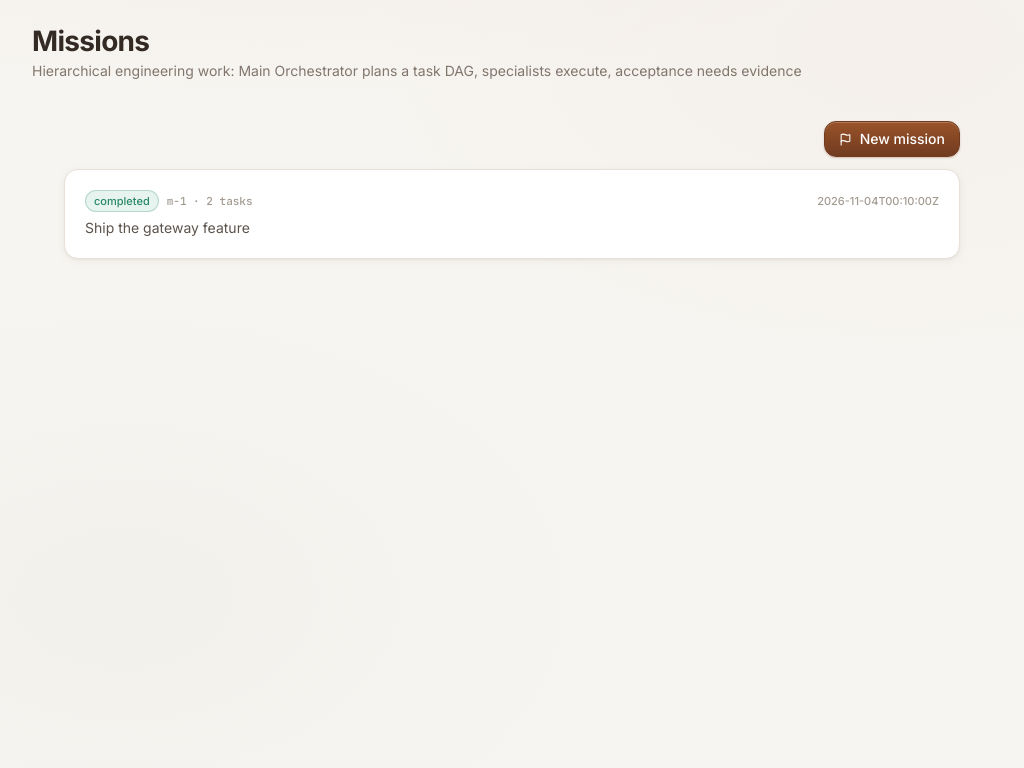
Test: Missions learning post-mortem › shows the pending note before the learning tick runs
The width and height of the screenshot is (1024, 768).
Click the text "Ship the gateway feature".
click(167, 228)  # box [85,219,250,236]
(page scrolled)
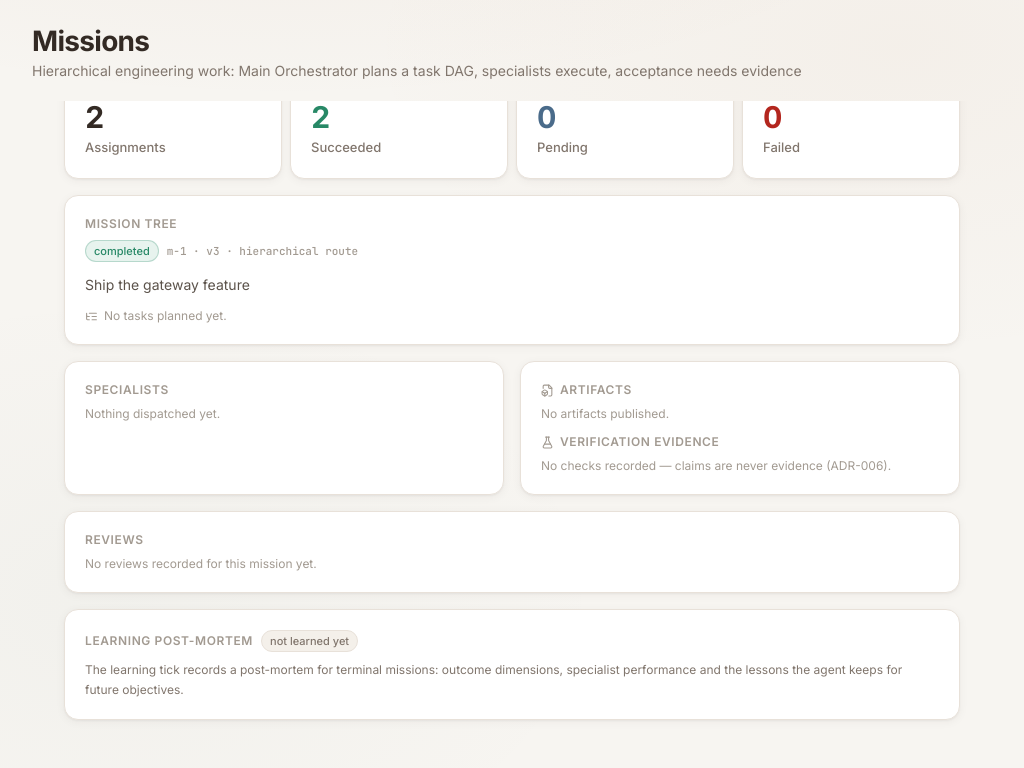
Check: the text "not learned yet" is shown, box [261,630,358,652]
Check: the text "learning tick records a post-mortem" is shown, box [85,662,902,697]
